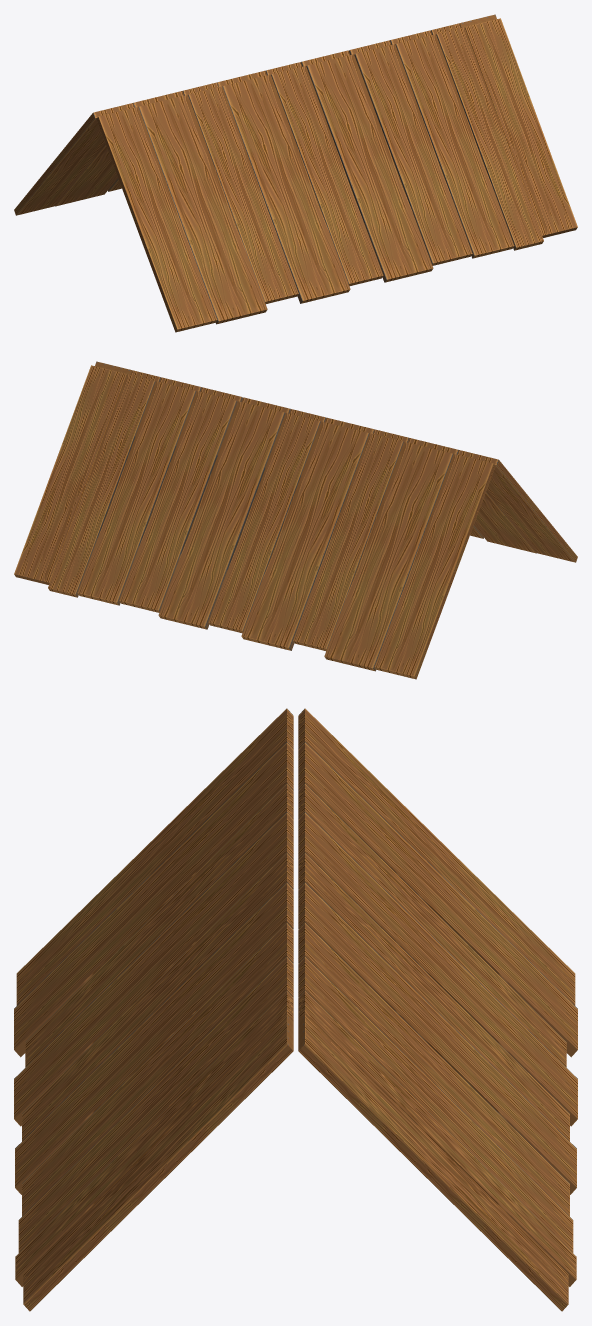
3 renders of one model, top to bottom at view 1: azimuth 30°, elevation 25°; view 2: azimuth 150°, elevation 25°; view 3: azimuth 270°, elevation 25°, orthographic. The views are drawn at different scales.
Parts seen in each view (by area): view 1: Cube.675; view 2: Cube.675; view 3: Cube.675.
Part boxes in pixels (box(x1,y1,x2,y2)): Cube.675: box(14, 14, 577, 332); Cube.675: box(14, 361, 577, 679); Cube.675: box(14, 708, 577, 1311).
Bounding box in the file's own units: 986 × 376 × 700.
Materials: 1 (1 with a texture image).
